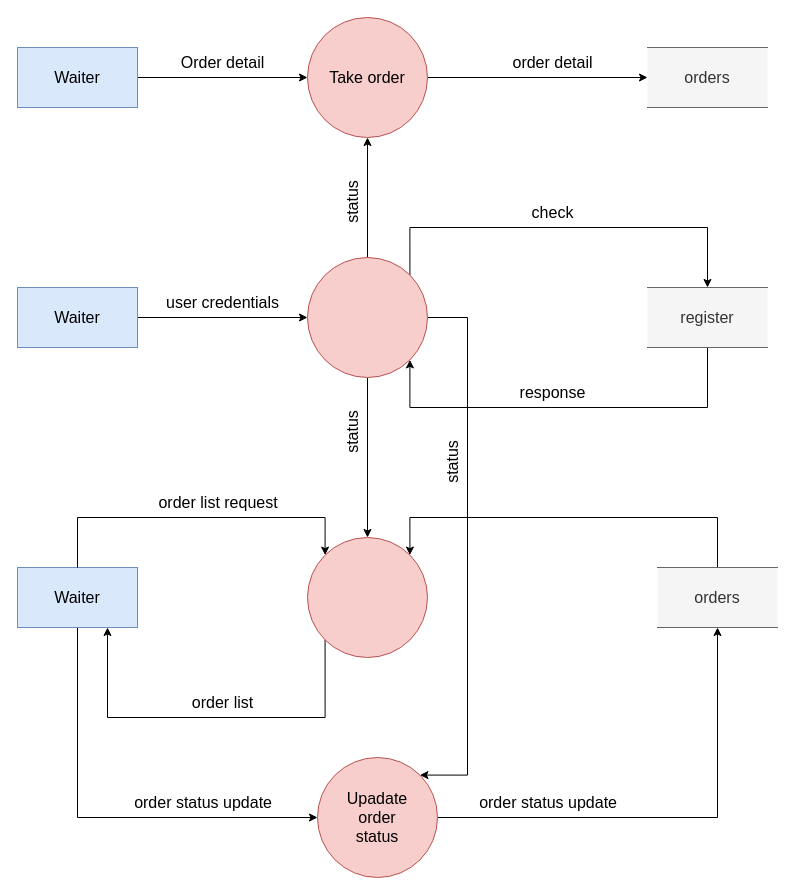
The diagram is 795 pixels wide and 895 high, and some of its shapes have lost their labels. Here are the shapes that lost their labels. From the top down, the centre of each, then its label:
the point at 367,317: Authentication
the point at 367,597: View order list
